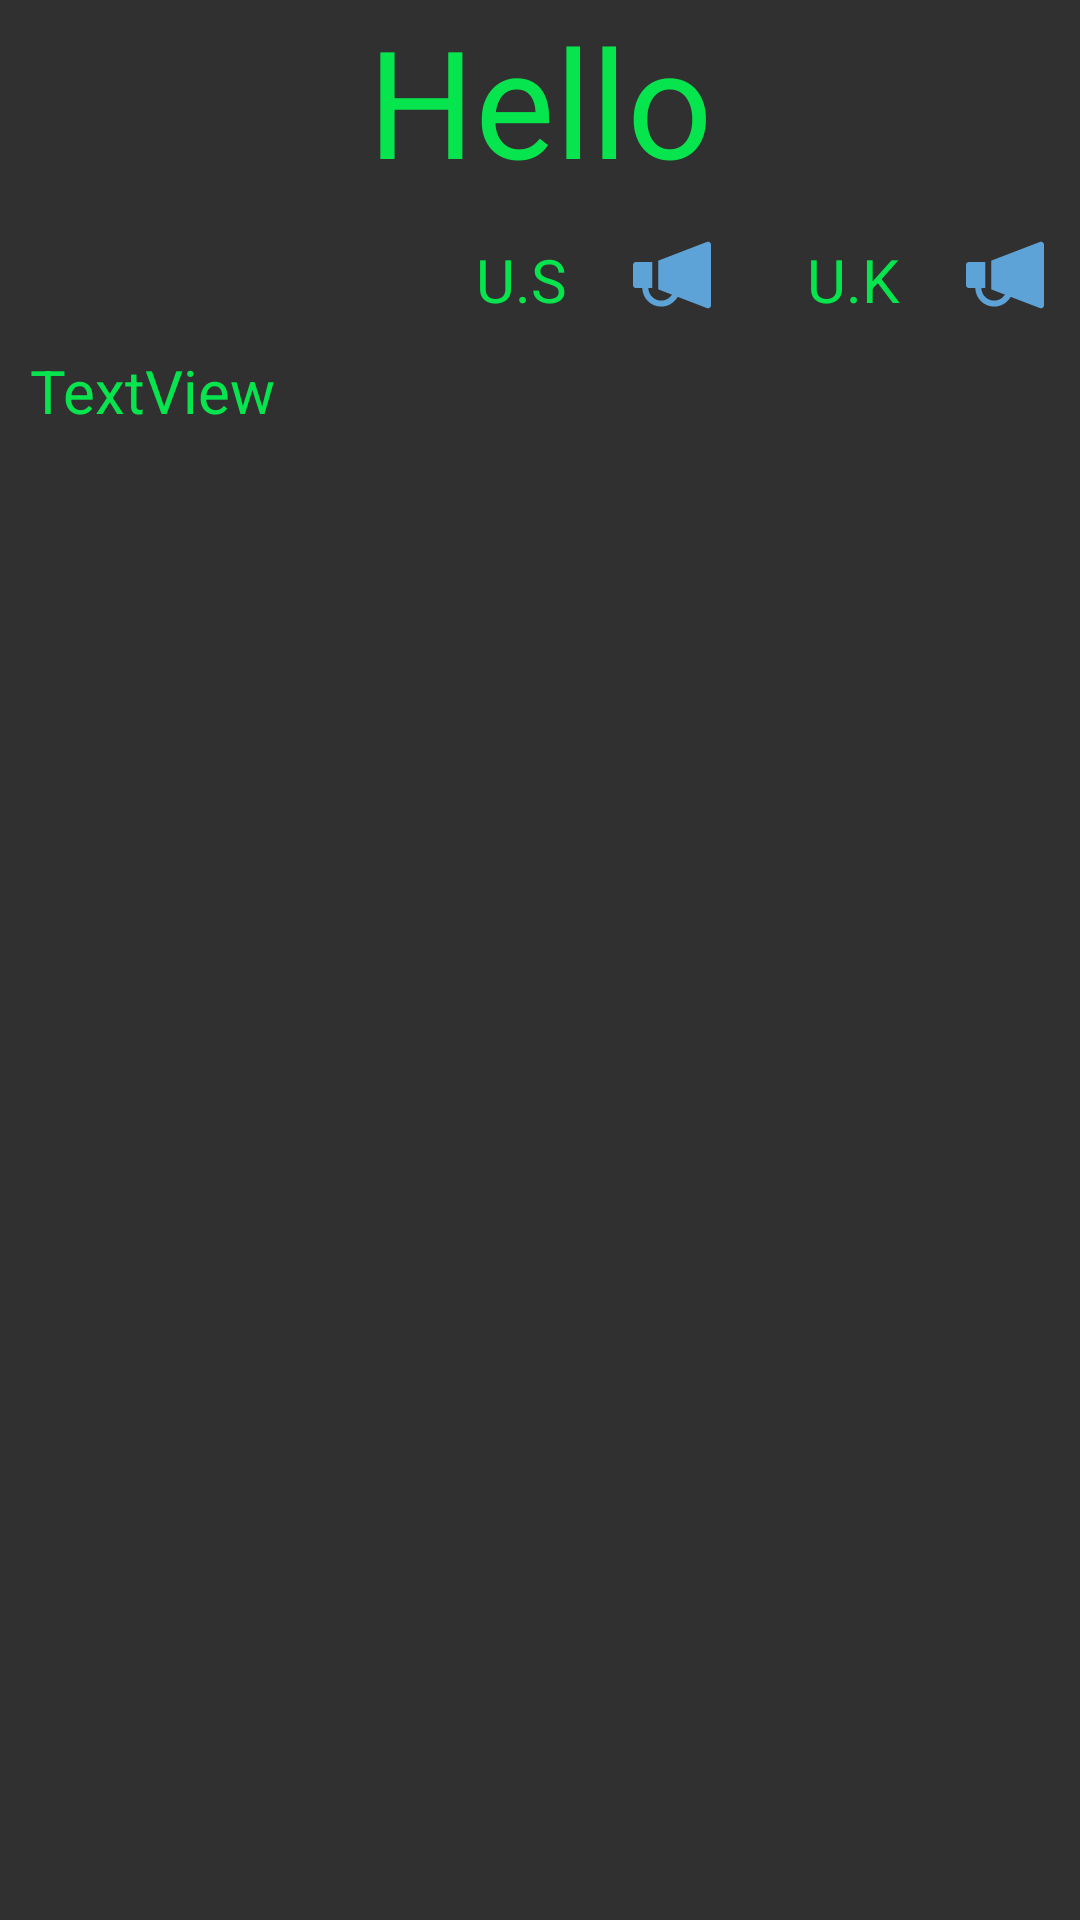

Screen size 1080×1920. Icon name, then its center in pixels as (x=x, y=y):
megaphone: (x=672, y=275), (x=1005, y=275)
